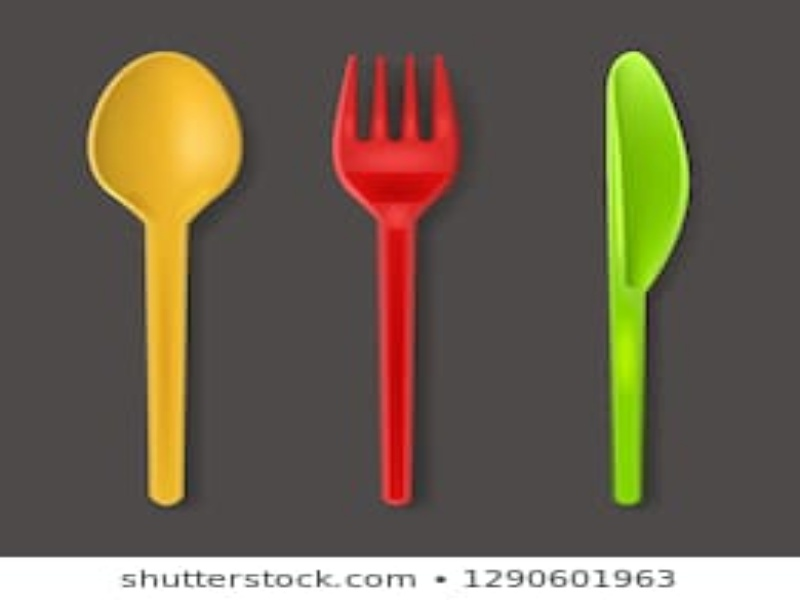plastic-silverware: (87, 47, 248, 509), (328, 48, 460, 507), (603, 48, 693, 505)
